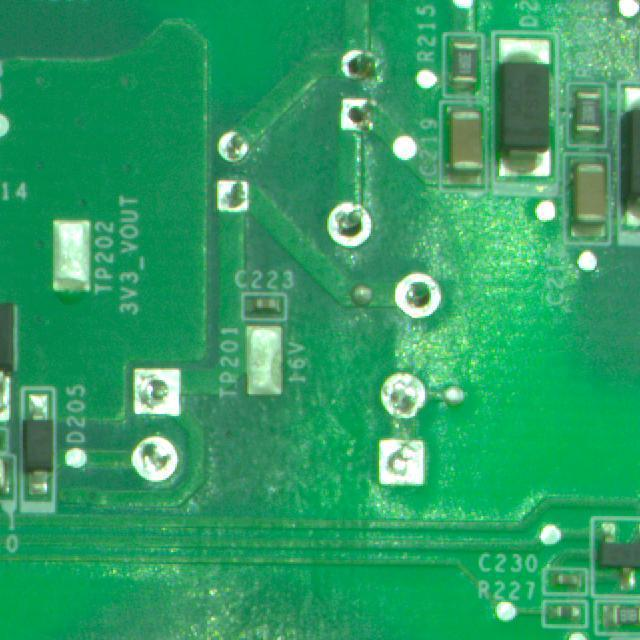Insufficient solder: (364, 432, 434, 509), (388, 266, 456, 329), (125, 420, 188, 487), (128, 364, 199, 420), (376, 368, 434, 426), (317, 195, 377, 250), (206, 120, 270, 168), (335, 90, 386, 147), (333, 38, 384, 87), (206, 168, 252, 219)
